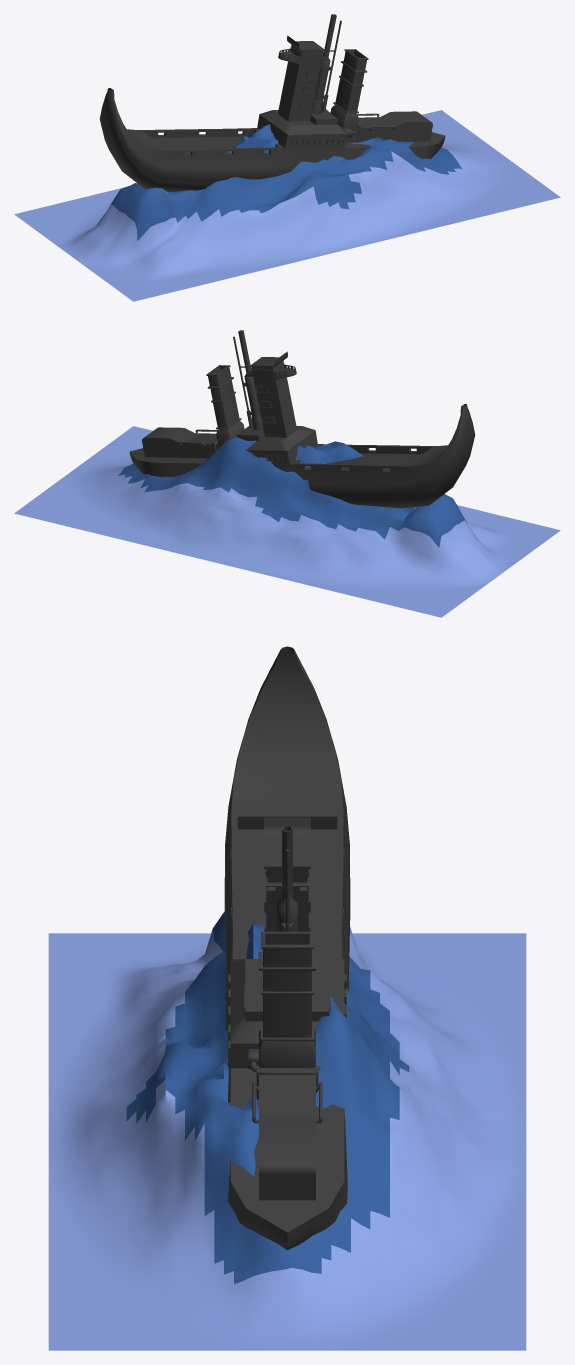
The model's file is Naufragio.fbx.
The picture shows the model from 3 angles, top to bottom: view 1: azimuth 30°, elevation 25°; view 2: azimuth 150°, elevation 25°; view 3: azimuth 270°, elevation 25°; orthographic projection. The views are drawn at different scales.
Parts seen in each view (by area): view 1: Landscape.002, Criuser.000; view 2: Landscape.002, Criuser.000; view 3: Landscape.002, Criuser.000.
Part boxes in pixels (left/top/right/bottom): Landscape.002: left=14, top=109, right=560, bottom=301; Criuser.000: left=99, top=14, right=445, bottom=191; Landscape.002: left=14, top=426, right=560, bottom=617; Criuser.000: left=129, top=330, right=475, bottom=508; Landscape.002: left=48, top=911, right=526, bottom=1350; Criuser.000: left=224, top=646, right=350, bottom=1250.
Bounding box in the file's own units: 3469 × 1481 × 1679.
